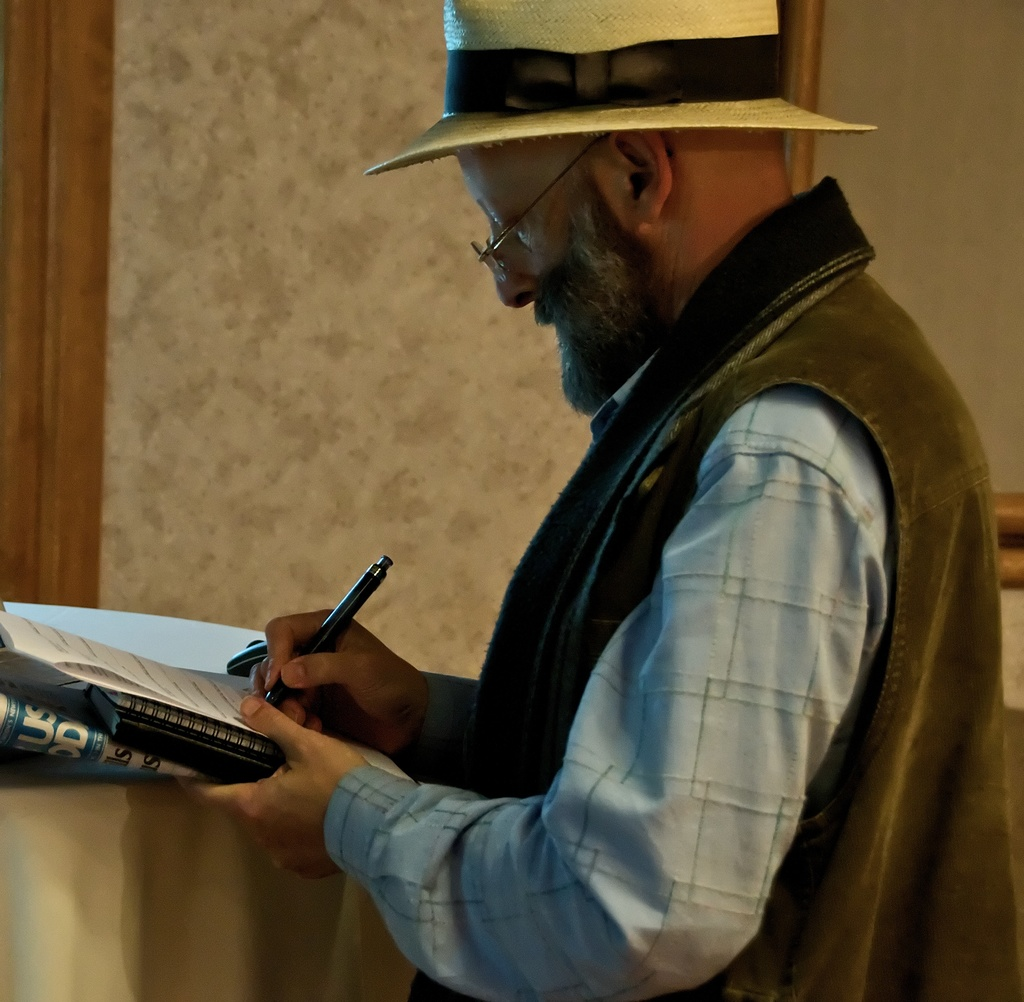Pen: (259, 556, 390, 700)
